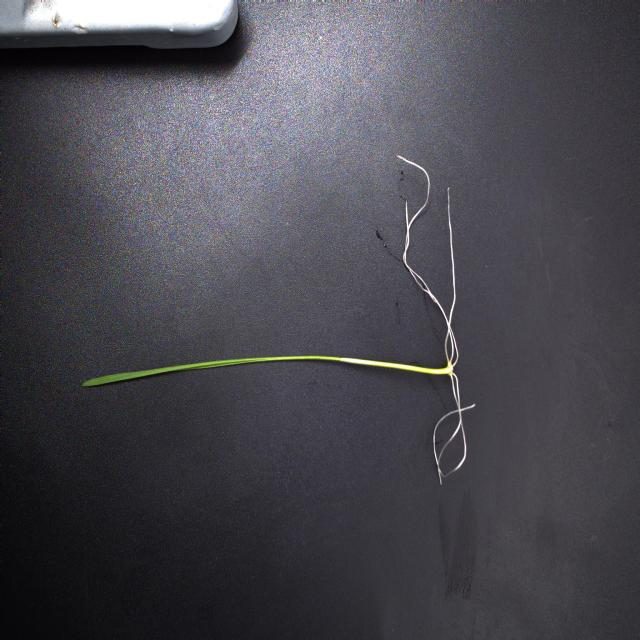leaf: (81, 354, 333, 387)
root: (395, 154, 477, 487)
stem: (334, 359, 453, 374)
